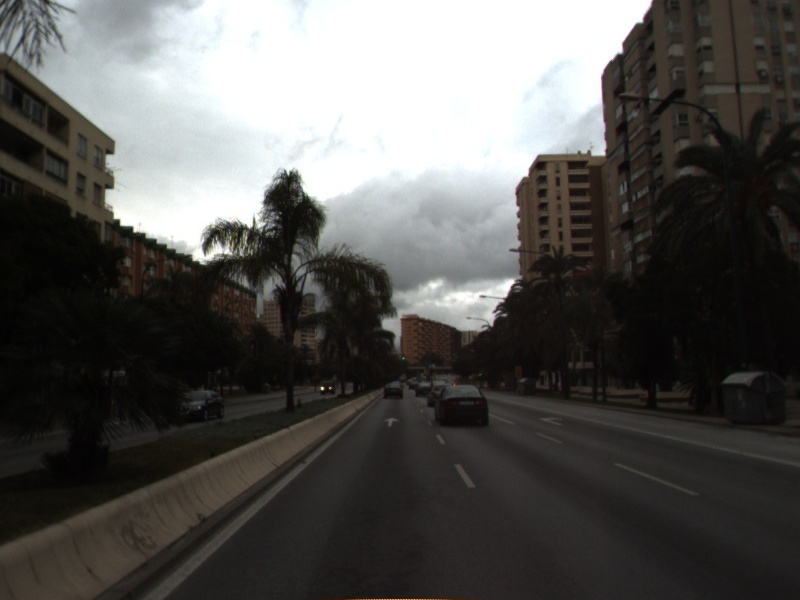RIGHT: (536, 414, 567, 428)
STRAIGHT: (382, 415, 402, 429)
